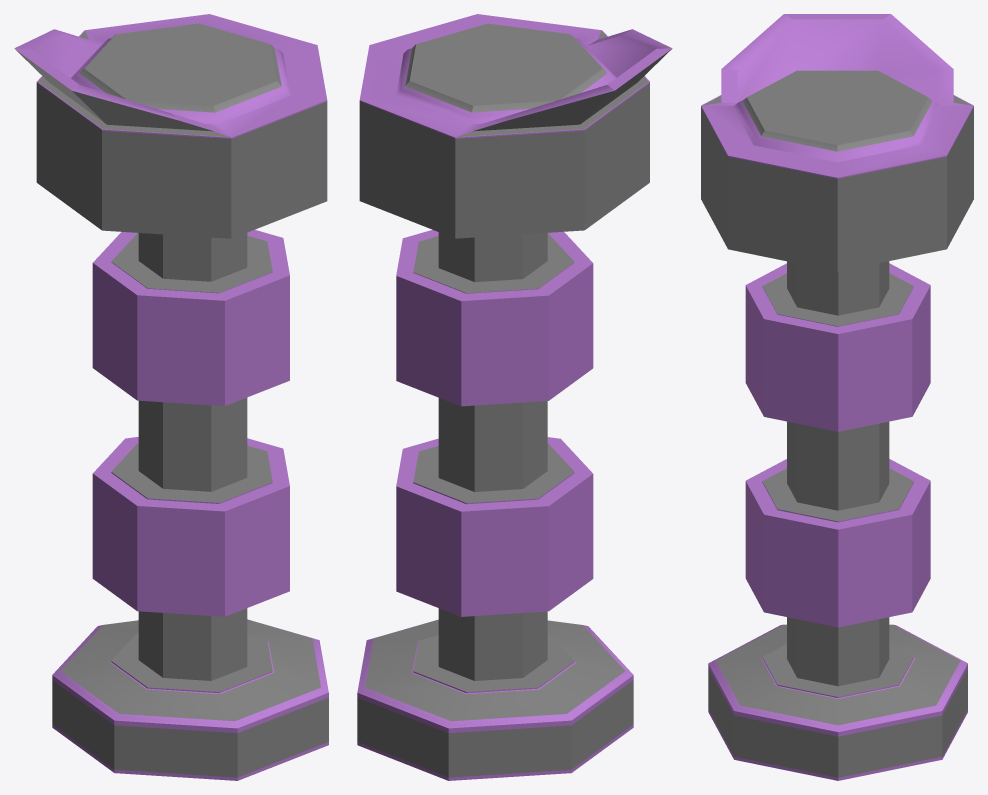
Rendered from stoolBar.glb.
3 views of the same model, side by side, from view 1: azimuth 30°, elevation 25°; view 2: azimuth 150°, elevation 25°; view 3: azimuth 270°, elevation 25° (orthographic). The views are drawn at different scales.
Parts seen in each view (by area): view 1: stoolBar; view 2: stoolBar; view 3: stoolBar.
Boxes of the visible parts, left/top/right/bottom form: stoolBar: left=14, top=14, right=328, bottom=780; stoolBar: left=357, top=14, right=672, bottom=780; stoolBar: left=701, top=14, right=973, bottom=780.
Bounding box in the file's own units: 0.3422 × 0.8159 × 0.3145.
